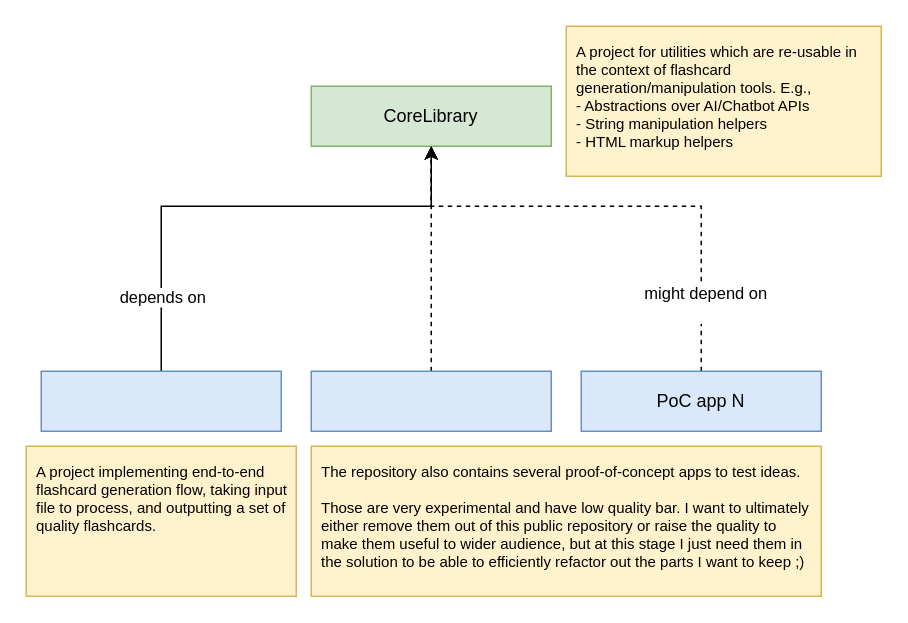
This 908x623 diagram has some shape labels left out. Each missing label, with the box of its shape:
GenerateFlashcards: (40, 370, 281, 431)
PoC app 1: (310, 370, 551, 431)
